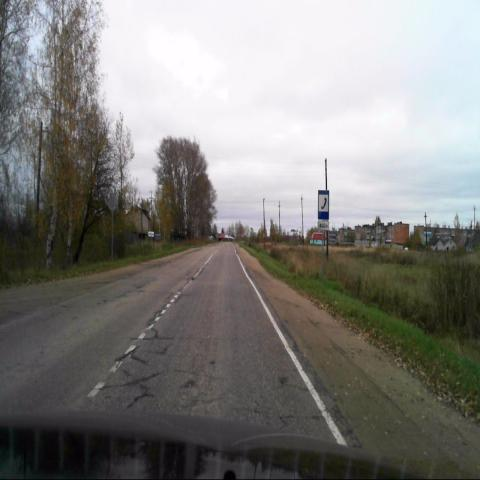7_6: (318, 190, 329, 220)
